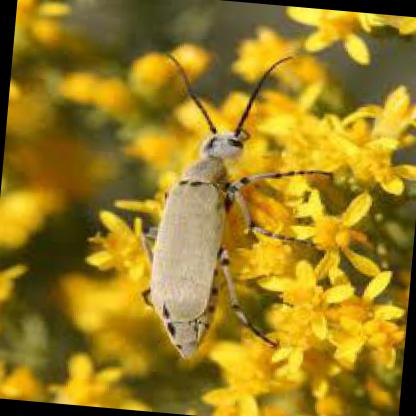blister beetle: (147, 56, 328, 360)
